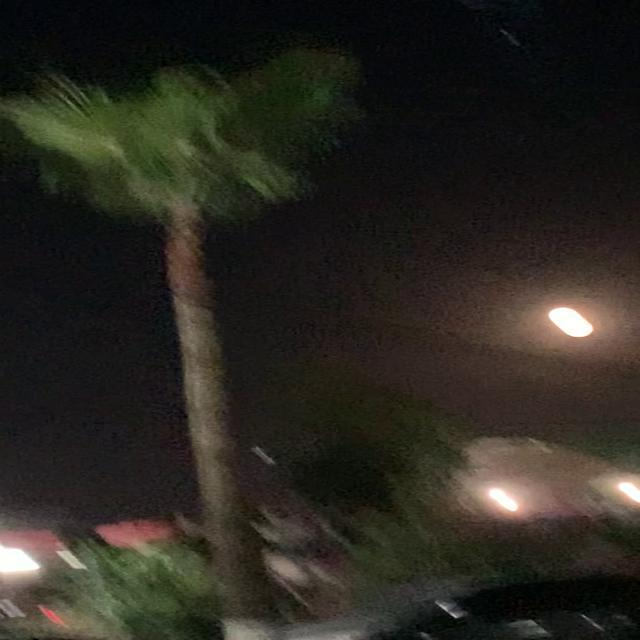moon: (538, 306, 596, 334)
